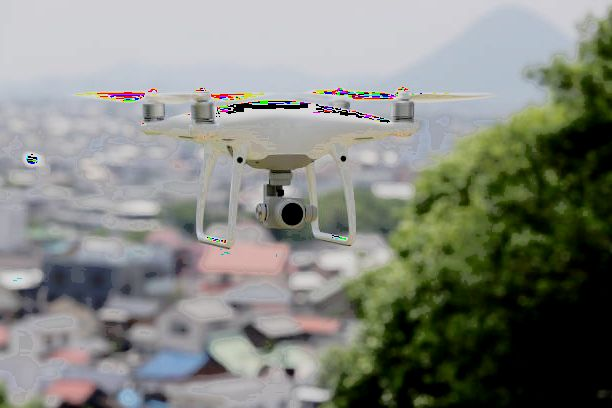Drone: (73, 84, 494, 252)
